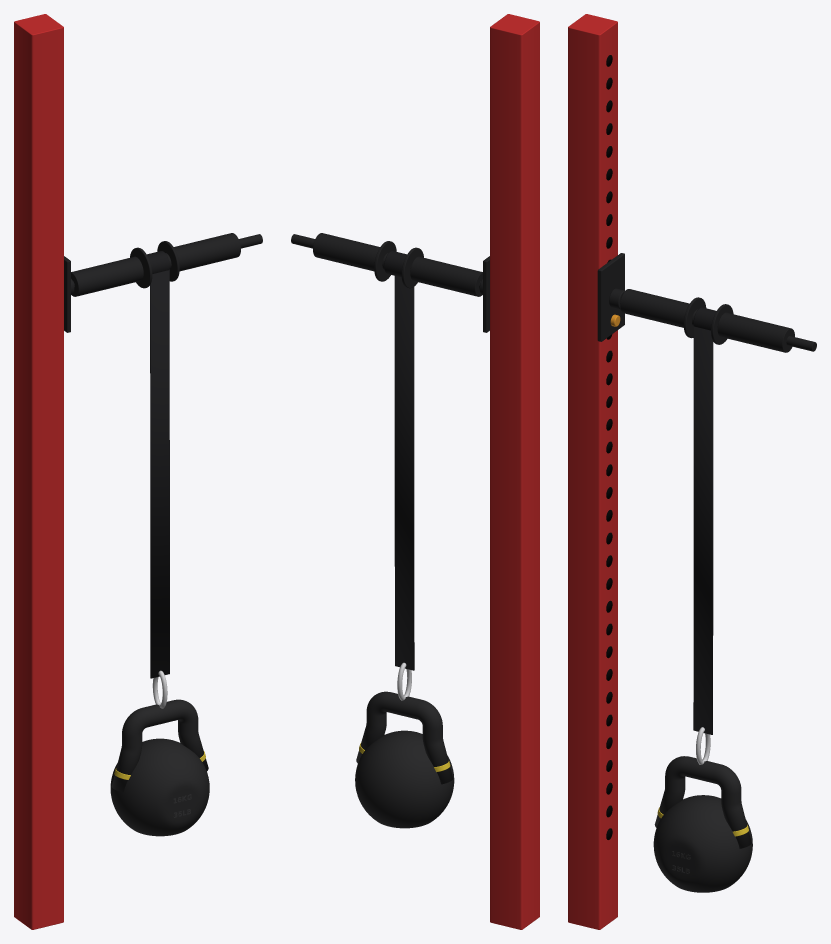
File: rogue-wrist-roller_v001.glb
3 views of the same model, side by side, from view 1: azimuth 30°, elevation 25°; view 2: azimuth 150°, elevation 25°; view 3: azimuth 330°, elevation 25° (orthographic).
Visible parts, largest first — view 1: rogue-wrist-roller_red, rogue-wrist-roller_web, rogue-wrist-roller_iron, rogue-wrist-roller_frame.001, rogue-wrist-roller_iron.001, rogue-wrist-roller_frame.002, rogue-wrist-roller_frame; view 2: rogue-wrist-roller_red, rogue-wrist-roller_web, rogue-wrist-roller_iron, rogue-wrist-roller_frame.001, rogue-wrist-roller_iron.001, rogue-wrist-roller_frame.002, rogue-wrist-roller_frame; view 3: rogue-wrist-roller_red, rogue-wrist-roller_web, rogue-wrist-roller_iron, rogue-wrist-roller_frame.001, rogue-wrist-roller_iron.001, rogue-wrist-roller_hole, rogue-wrist-roller_frame, rogue-wrist-roller_frame.002.
Part boxes in pixels (x1,y1,x2,y2): rogue-wrist-roller_red: (14,14,63,929); rogue-wrist-roller_web: (150,269,169,678); rogue-wrist-roller_iron: (110,738,209,836); rogue-wrist-roller_frame.001: (71,233,262,296); rogue-wrist-roller_iron.001: (111,699,208,792); rogue-wrist-roller_frame.002: (130,241,179,288); rogue-wrist-roller_frame: (64,256,74,332); rogue-wrist-roller_red: (490,14,539,929); rogue-wrist-roller_web: (394,276,414,670); rogue-wrist-roller_iron: (355,730,454,828); rogue-wrist-roller_frame.001: (291,233,482,296); rogue-wrist-roller_iron.001: (356,691,452,784); rogue-wrist-roller_frame.002: (374,241,423,288); rogue-wrist-roller_frame: (479,256,489,332); rogue-wrist-roller_red: (568,14,617,929); rogue-wrist-roller_web: (693,326,713,734); rogue-wrist-roller_iron: (653,795,752,892); rogue-wrist-roller_frame.001: (620,289,816,352); rogue-wrist-roller_iron.001: (654,756,751,848); rogue-wrist-roller_hole: (606,55,612,839); rogue-wrist-roller_frame: (597,253,624,341); rogue-wrist-roller_frame.002: (683,297,733,344).
Bounding box in the file's own units: 0.5562 × 2 × 0.1911.
